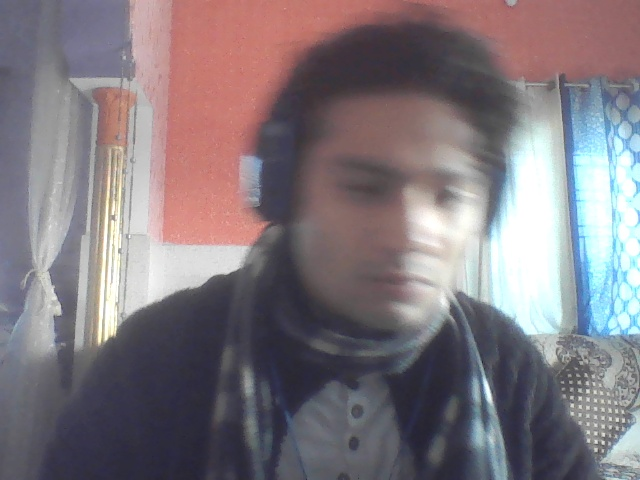real: (272, 20, 508, 354)
